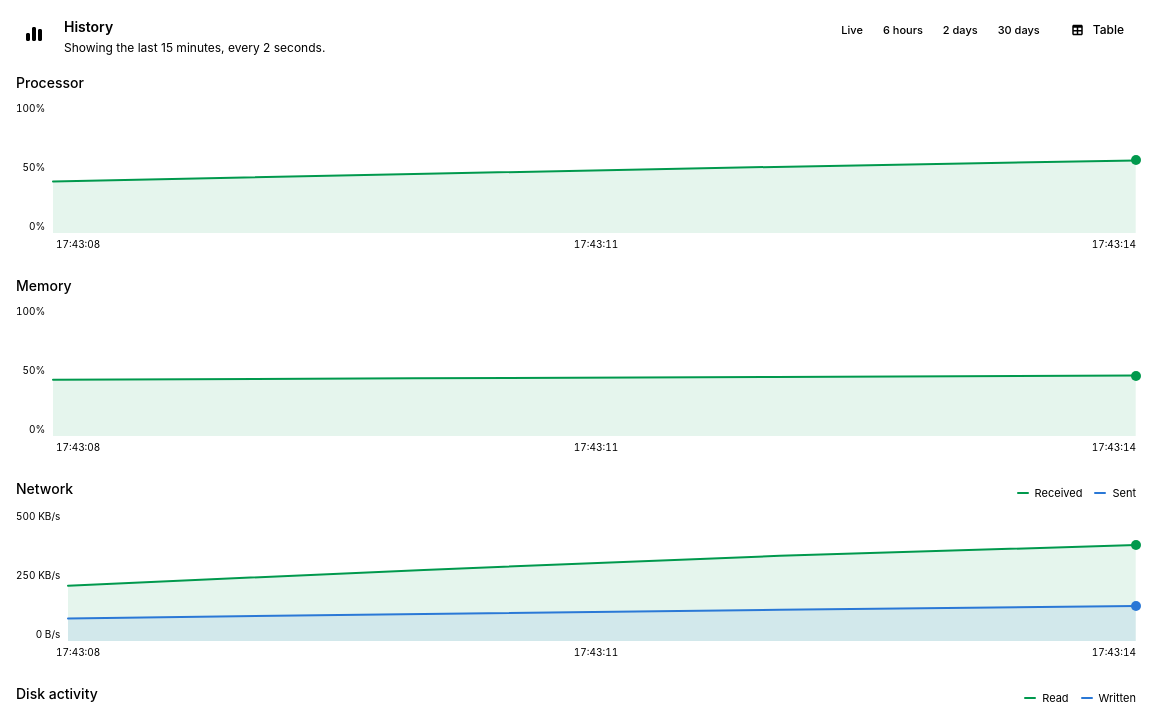
Test case: MetricsCard › says why stored history did not load
This screenshot has width=1152, height=715.
Click the radio button labelled "2 days" at (960, 30), box [933,18,988,42]
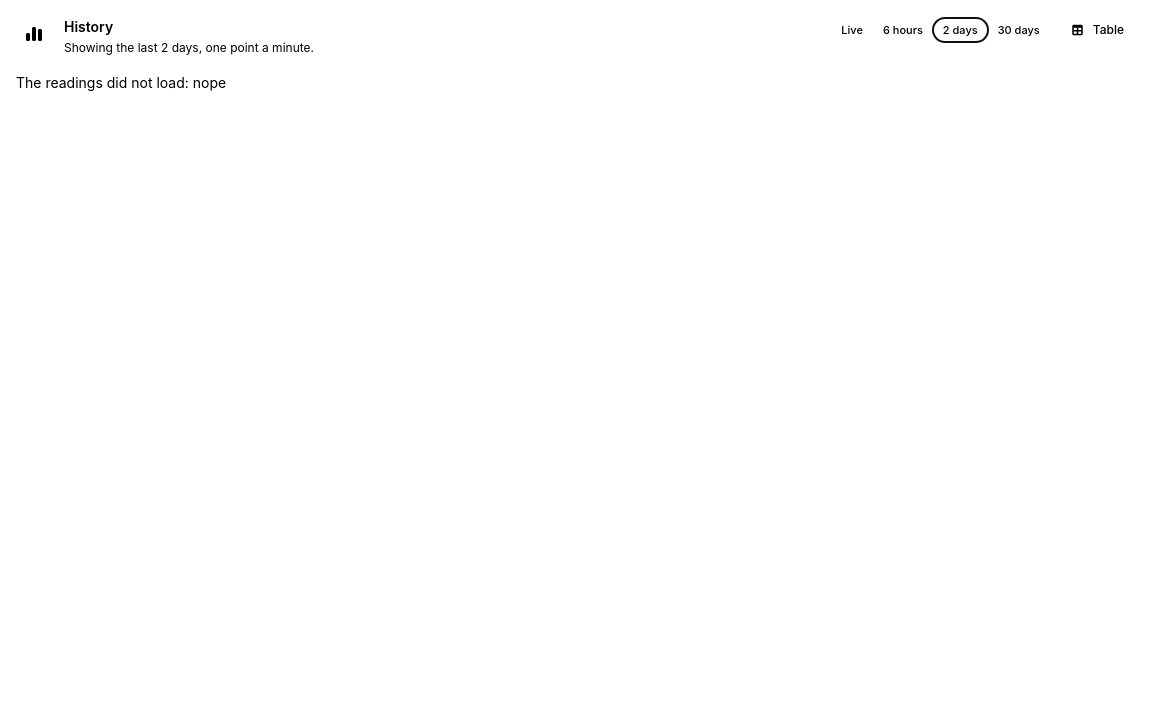
Now the message reads "The readings did not load: nope", box [16,74,226,91]
